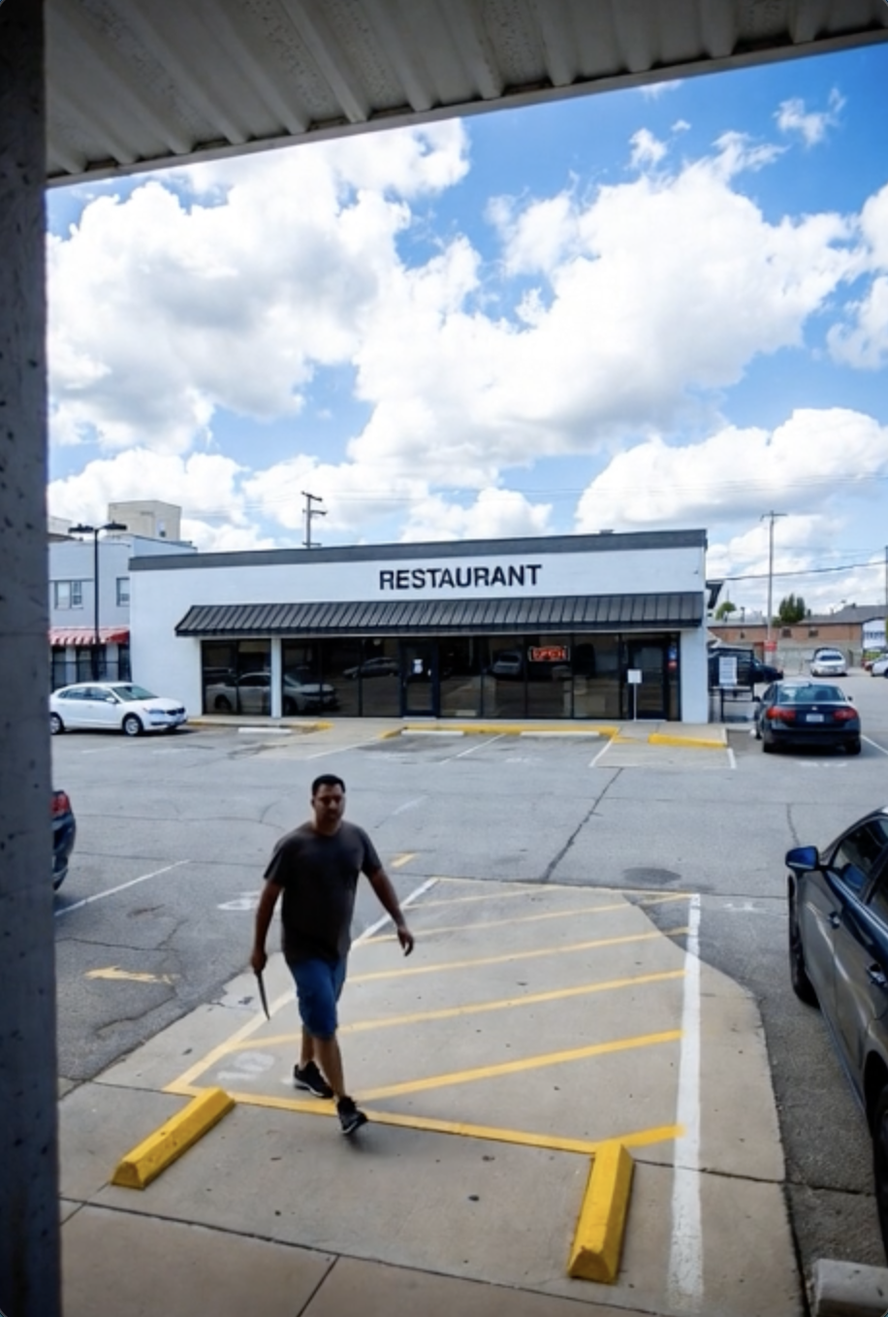Heavy Gun: (248, 762, 420, 1136)
Knife: (246, 948, 279, 1026)
